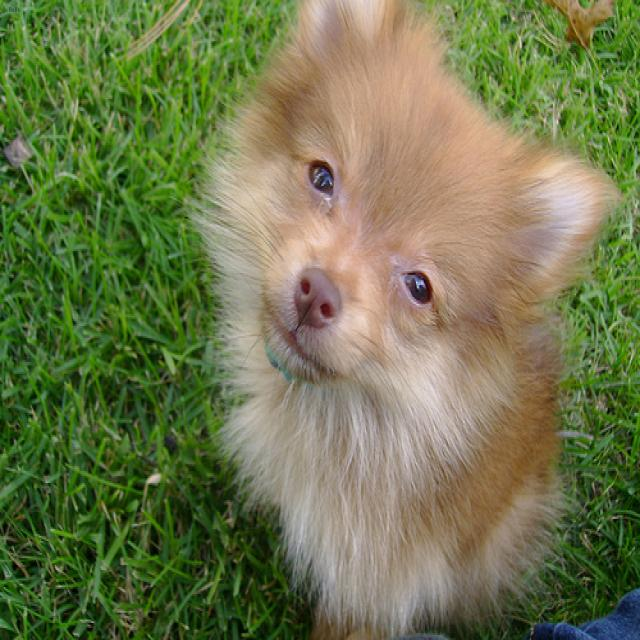dog-pomeranian: (179, 2, 627, 637)
